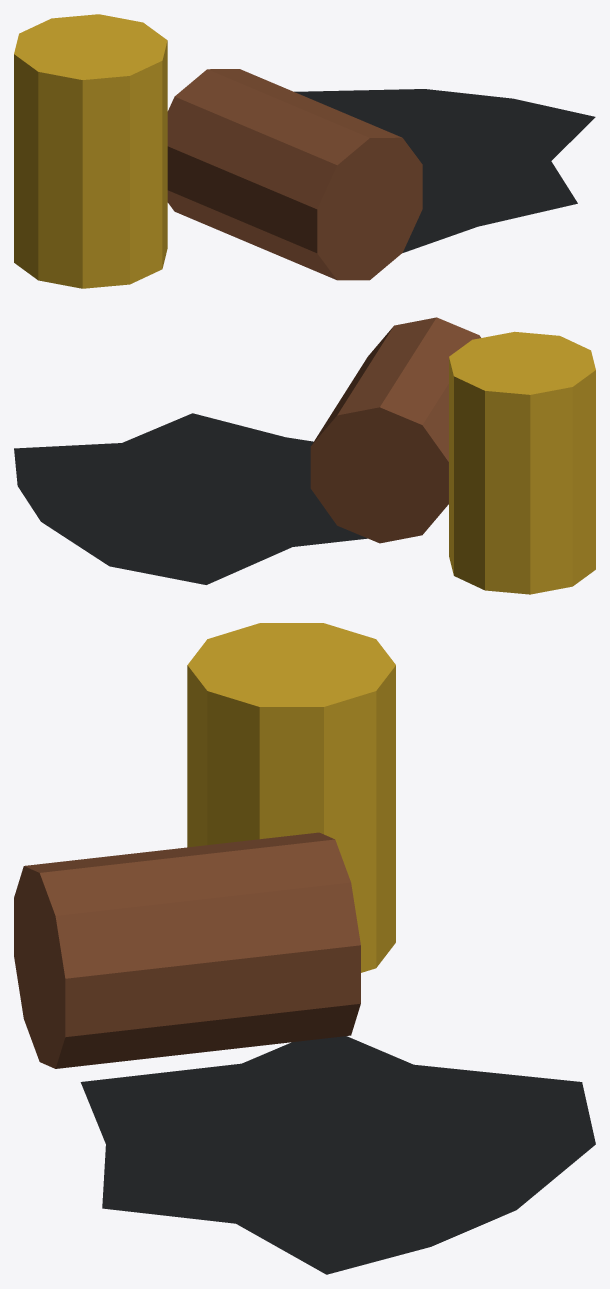
Rendered from Drum_Toppled.fbx.
The picture shows the model from 3 angles, top to bottom: view 1: azimuth 30°, elevation 25°; view 2: azimuth 150°, elevation 25°; view 3: azimuth 270°, elevation 25°; orthographic projection. The views are drawn at different scales.
Visible parts, largest first — view 1: Drum_Toppled; view 2: Drum_Toppled; view 3: Drum_Toppled.
Part boxes in pixels (<box>): Drum_Toppled: <box>14,14,595,288</box>; Drum_Toppled: <box>14,317,595,594</box>; Drum_Toppled: <box>14,623,595,1274</box>.
Size of the model in its own units: 2.57 by 0.88 by 1.67.
